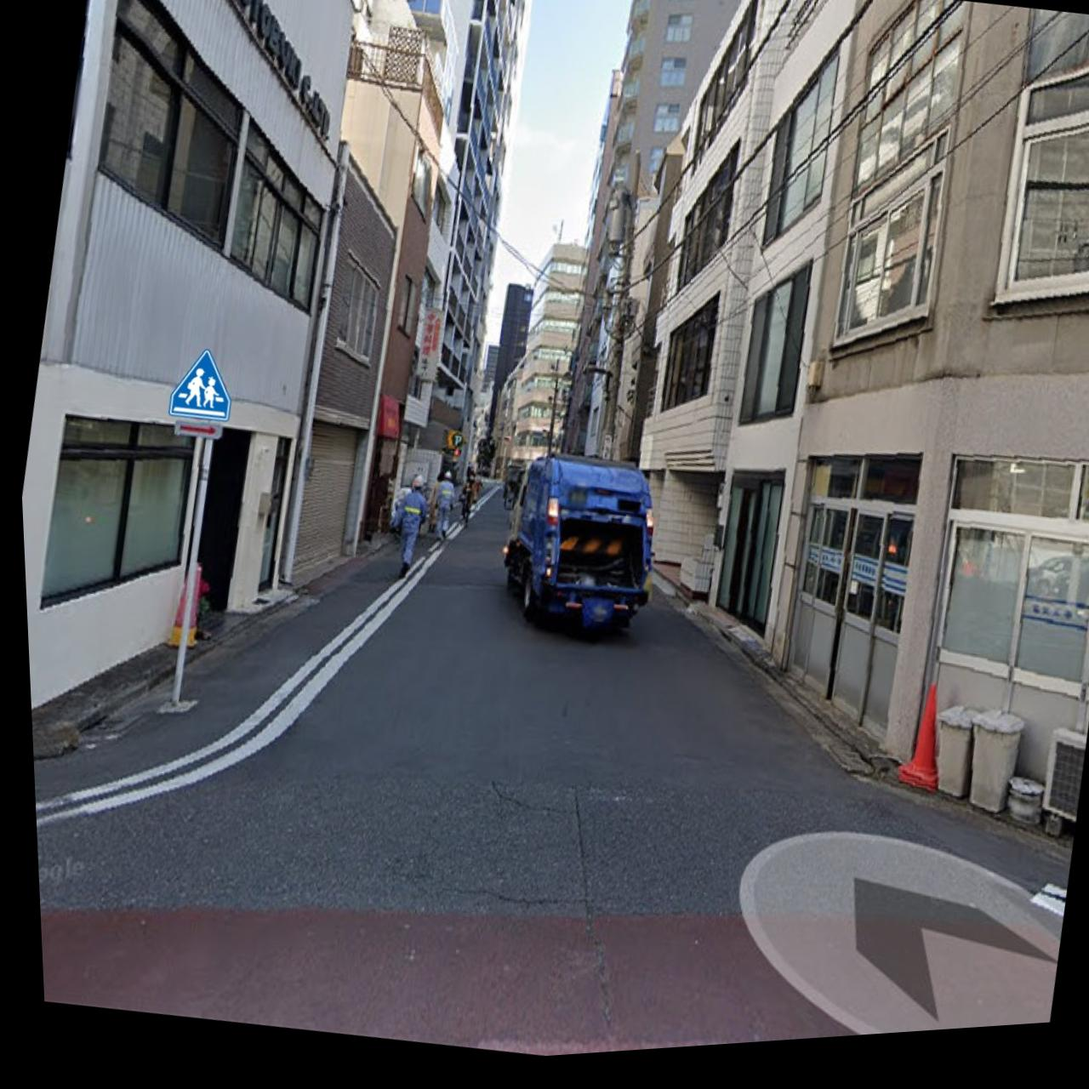cone: (86, 190, 253, 605)
